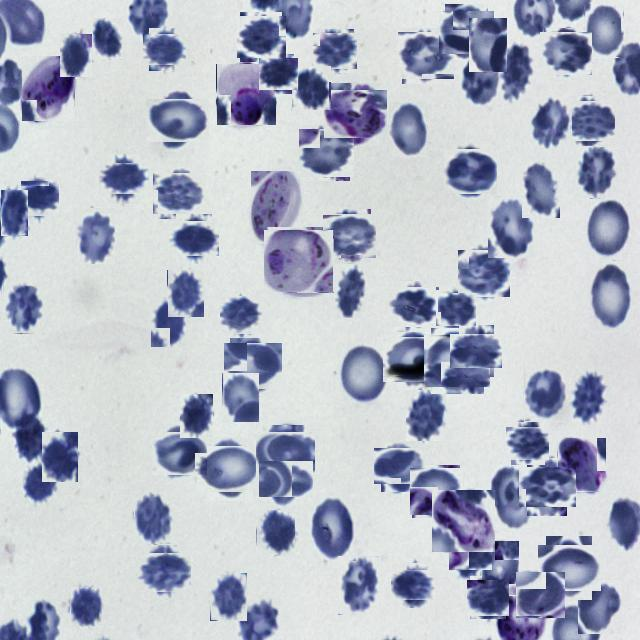difficult: (216, 64, 276, 126), (557, 438, 606, 492)
red blood cell: (428, 332, 488, 391), (339, 343, 389, 407), (202, 441, 257, 497), (542, 540, 596, 596), (588, 262, 631, 332), (310, 496, 356, 561), (151, 94, 205, 148), (387, 333, 441, 386), (491, 464, 533, 532), (585, 199, 631, 261), (488, 196, 534, 258), (400, 29, 452, 82), (260, 428, 312, 481), (228, 340, 280, 392), (300, 127, 352, 179), (412, 466, 462, 517), (458, 248, 508, 298), (522, 462, 572, 512), (442, 7, 492, 57), (446, 147, 496, 196), (338, 556, 379, 615), (156, 428, 204, 478), (578, 580, 622, 634), (325, 212, 374, 260), (74, 208, 115, 265), (460, 53, 502, 108), (516, 571, 564, 619), (542, 30, 590, 78), (528, 98, 572, 150), (524, 368, 566, 422), (140, 549, 188, 596), (575, 147, 618, 199), (156, 170, 202, 217), (584, 4, 624, 58), (522, 162, 560, 218), (238, 14, 284, 60), (389, 102, 427, 157), (481, 541, 519, 596), (263, 456, 309, 501), (469, 18, 507, 72), (406, 390, 446, 441), (568, 98, 612, 144), (2, 286, 44, 334), (568, 370, 608, 420), (392, 284, 436, 329), (134, 494, 172, 545), (378, 444, 422, 488), (22, 456, 60, 506), (334, 264, 368, 319), (222, 373, 259, 423), (172, 217, 215, 260), (454, 330, 498, 372), (500, 46, 534, 100), (42, 432, 78, 482), (291, 66, 331, 111), (256, 510, 295, 556), (210, 573, 247, 621), (167, 270, 204, 318), (150, 299, 186, 348), (104, 158, 144, 200), (11, 416, 47, 462), (315, 31, 356, 71), (222, 296, 262, 336), (468, 578, 508, 618), (180, 394, 213, 438), (394, 566, 432, 604), (509, 424, 547, 462), (451, 535, 489, 573), (146, 31, 184, 68), (60, 34, 92, 77), (438, 291, 474, 329), (22, 180, 58, 217), (260, 56, 296, 92), (70, 587, 102, 627), (92, 18, 122, 60), (1, 190, 28, 236)
trophozoite: (266, 228, 333, 295), (432, 490, 495, 552), (251, 171, 301, 244), (21, 56, 75, 122), (328, 86, 383, 142)
